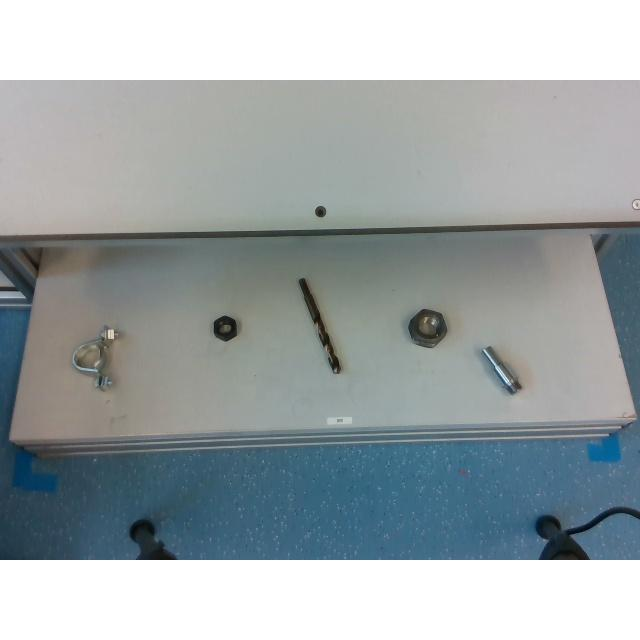Axis2: (481, 344, 521, 392)
Drill: (299, 277, 341, 371)
Housing: (70, 326, 118, 386)
M20: (212, 316, 236, 340)
M30: (408, 308, 448, 344)
